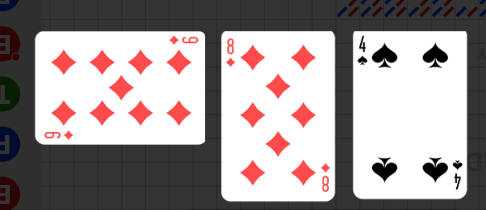4S: (450, 157, 463, 191)
9D: (167, 34, 200, 46), (43, 129, 75, 141)
